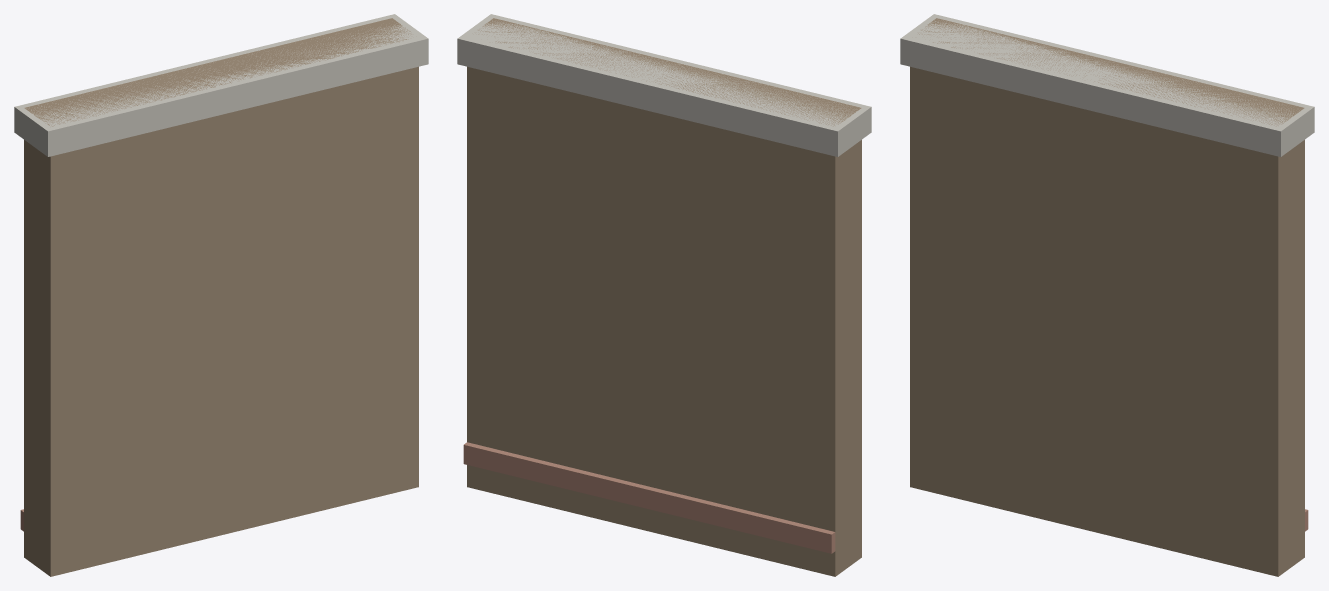
File: iz3_build_defense_concrete_wall_02.glb
The picture shows the model from 3 angles, left to right: view 1: azimuth 30°, elevation 25°; view 2: azimuth 150°, elevation 25°; view 3: azimuth 330°, elevation 25°; orthographic projection.
Parts seen in each view (by area): view 1: wall, cornice; view 2: wall, cornice, sill; view 3: wall, cornice.
Boxes of the visible parts, bbox=[...] form: wall: bbox=[24, 18, 418, 576]; cornice: bbox=[14, 14, 428, 156]; wall: bbox=[467, 18, 861, 576]; cornice: bbox=[457, 14, 871, 156]; sill: bbox=[463, 442, 835, 553]; wall: bbox=[910, 18, 1304, 576]; cornice: bbox=[900, 14, 1314, 156].
Size of the model in its own units: 2.48 by 2.8 by 0.38.
